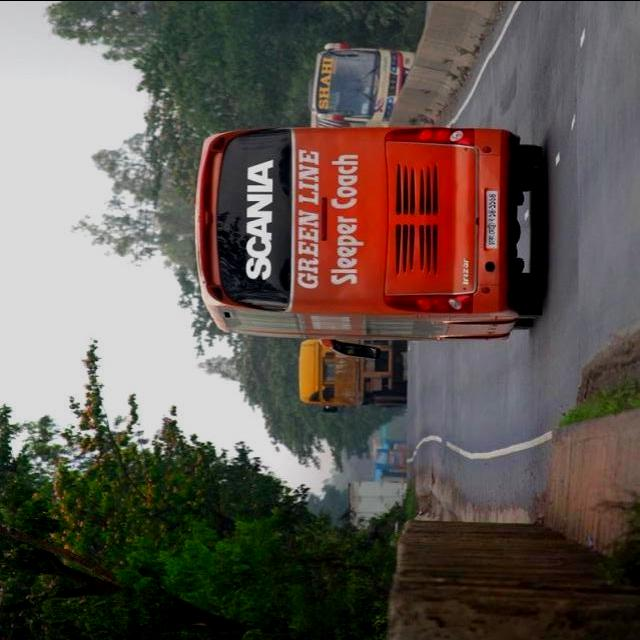bus: (192, 125, 543, 346)
